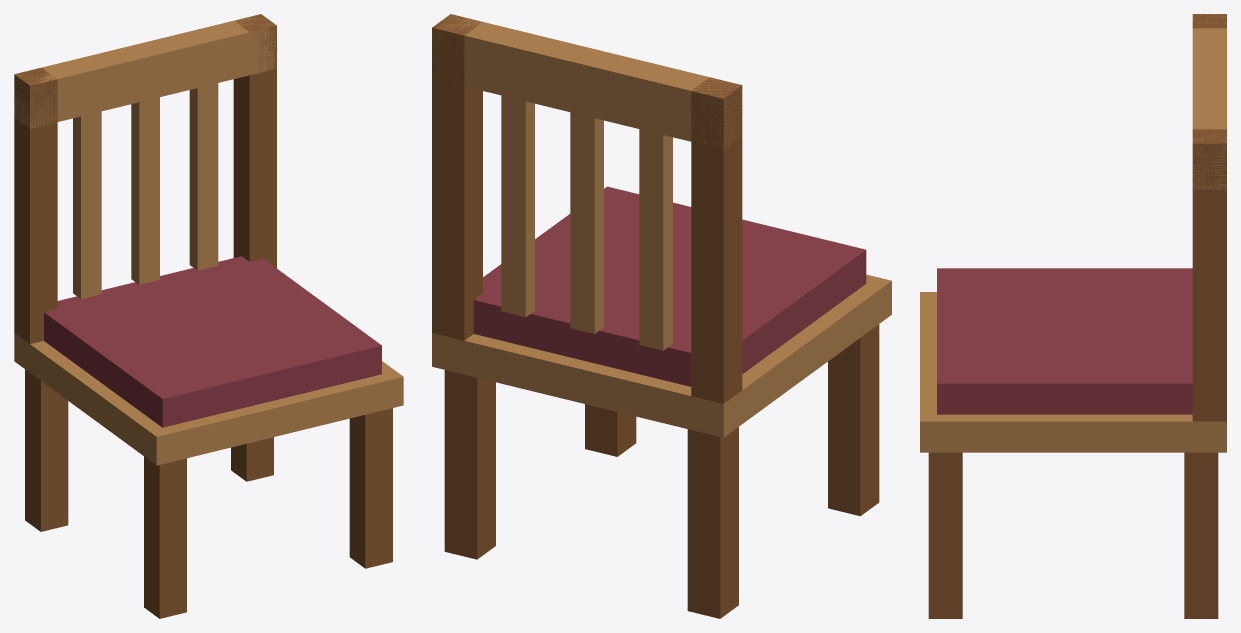
The model's file is chair.glb.
3 views of the same model, side by side, from view 1: azimuth 30°, elevation 25°; view 2: azimuth 150°, elevation 25°; view 3: azimuth 270°, elevation 25° (orthographic). The views are drawn at different scales.
Visible parts, largest first — view 1: chair; view 2: chair; view 3: chair.
Part boxes in pixels (<box>): chair: <box>14,14,403,618</box>; chair: <box>432,14,891,618</box>; chair: <box>920,14,1226,618</box>.
Size of the model in its own units: 0.36 by 0.62 by 0.36.
Materials: 1 (1 with a texture image).
